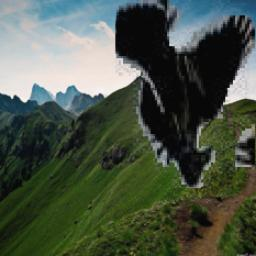Crow: (114, 0, 254, 188)
